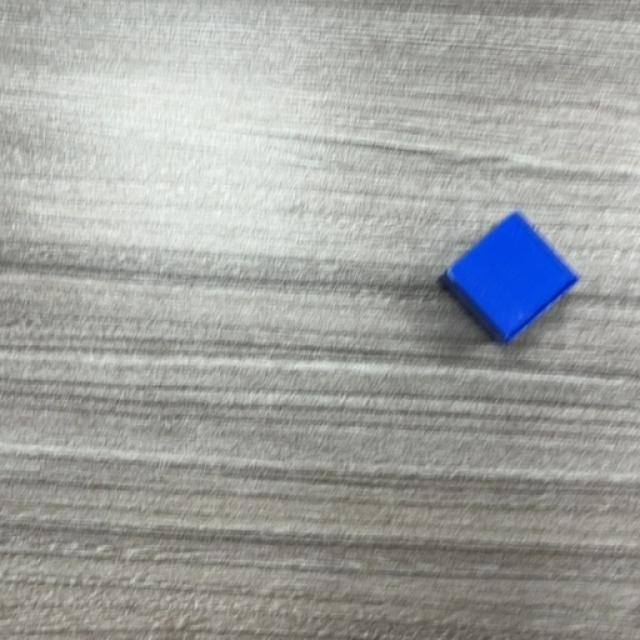Azul: (438, 212, 580, 345)
